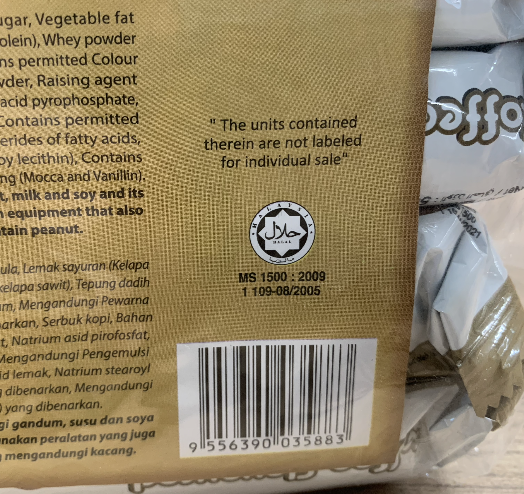halal: (258, 212, 305, 252)
